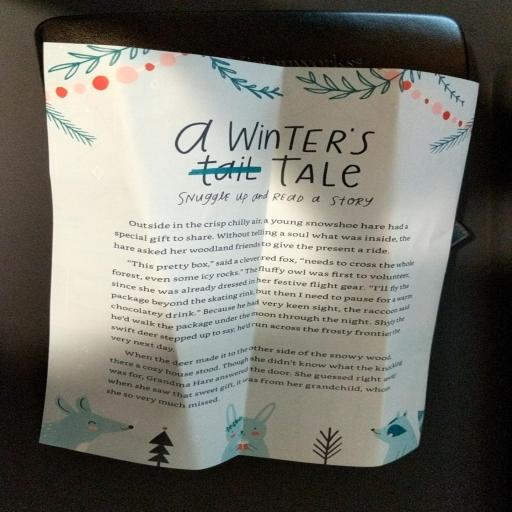paper: (9, 12, 503, 491)
